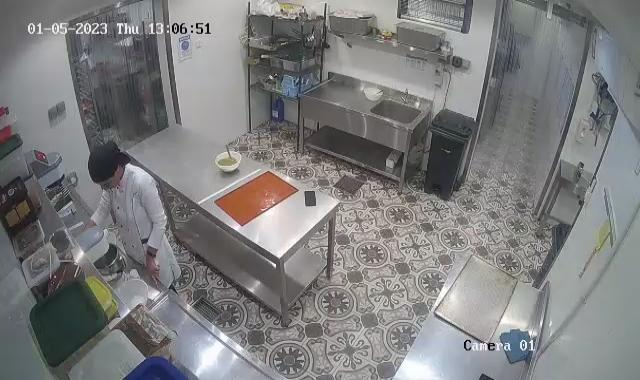no_hairnet: (86, 141, 124, 184)
